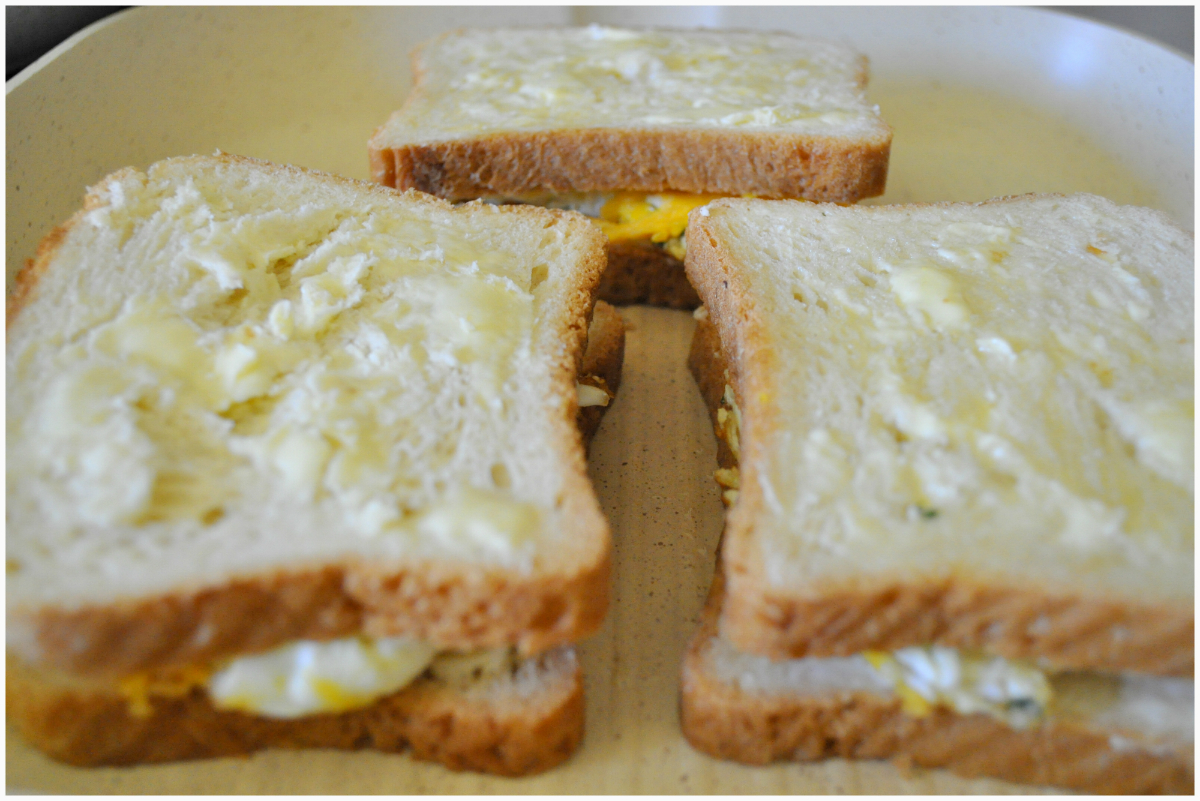slice of bread: (711, 230, 1193, 666), (390, 54, 893, 200), (35, 545, 602, 657)
